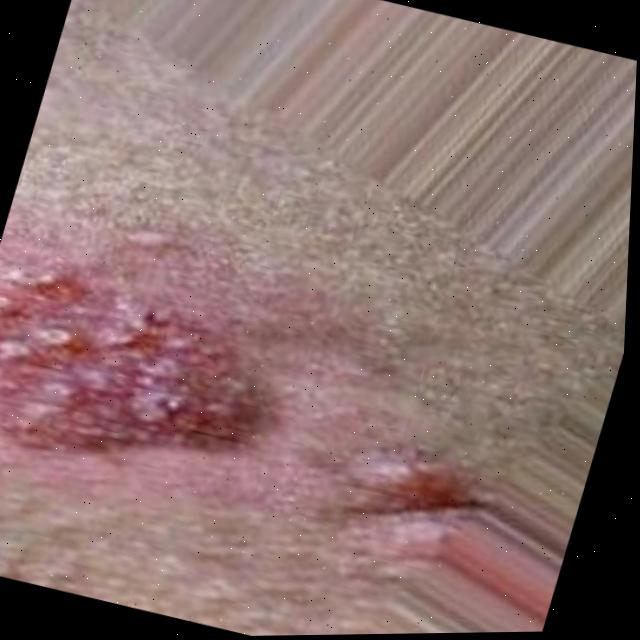Shingles: (0, 253, 288, 477)
